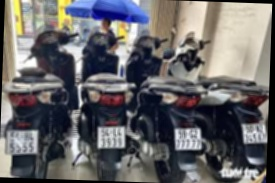Bien-so: (7, 136, 41, 165), (171, 120, 202, 146), (97, 125, 127, 151), (241, 110, 266, 133)
